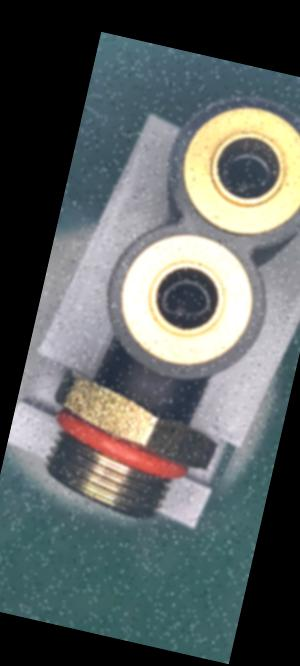off-centered: (213, 146, 285, 206), (153, 272, 224, 328)
